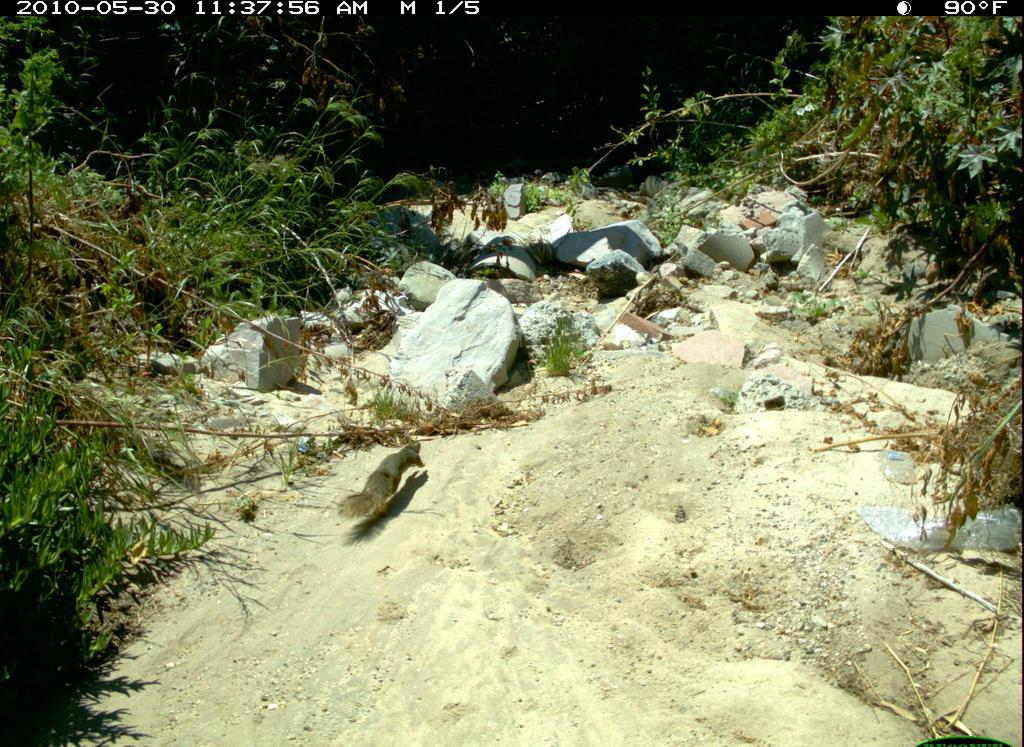squirrel: (332, 433, 443, 537)
